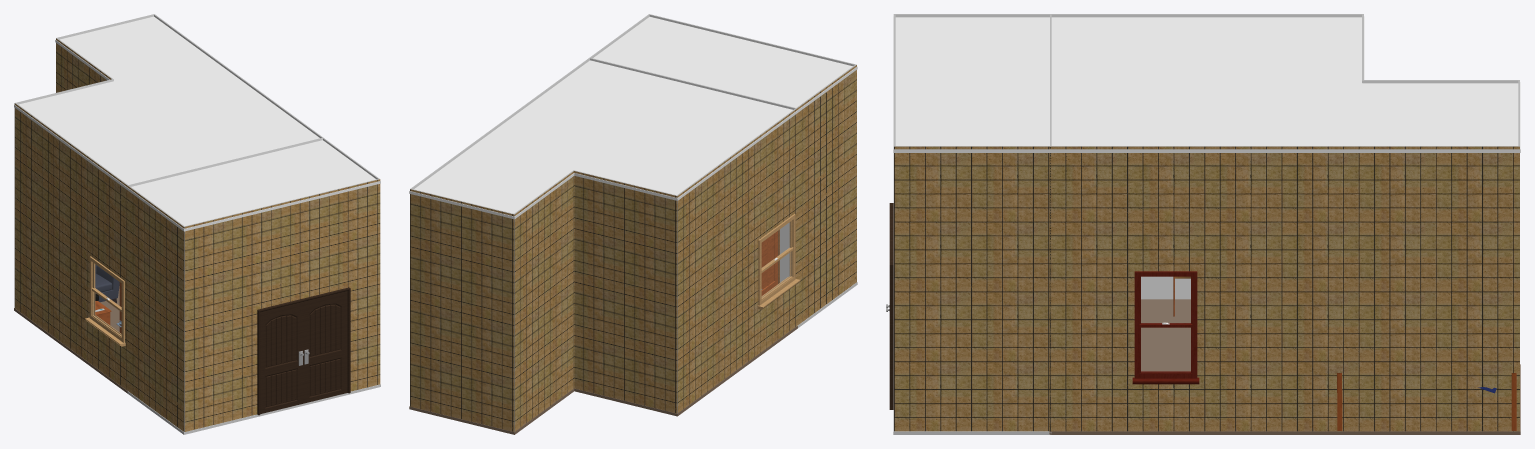
File: ProcTHOR-Train-174.glb
3 views of the same model, side by side, from view 1: azimuth 30°, elevation 25°; view 2: azimuth 150°, elevation 25°; view 3: azimuth 270°, elevation 25° (orthographic). The views are drawn at different scales.
Parts seen in each view (by area): view 1: WallInside#wall|exterior|0.00|8.09|4.05|8.09, Ceiling#room|2|c, WallInside#wall|exterior|4.05|2.02|4.05|6.07, WallInside#wall|exterior|4.05|6.07|4.05|8.09, Ceiling#room|3|c, Doorway_Door_9b, Doorway_Door_9a, WallInside#wall|exterior|2.02|0.00|2.02|2.02, Window_Hung_48x44, Doorway_Double_9, Floor#room|3|f, Floor#room|2|f (+3 smaller); view 2: Ceiling#room|2|c, WallInside#wall|exterior|4.05|2.02|4.05|6.07, WallInside#wall|exterior|0.00|0.00|2.02|0.00, WallInside#wall|exterior|2.02|2.02|4.05|2.02, WallInside#wall|exterior|2.02|0.00|2.02|2.02, WallInside#wall|exterior|4.05|6.07|4.05|8.09, Ceiling#room|3|c, Window_Hung_48x44, Floor#room|2|f, WallInside#wall|2|0.00|6.07|4.05|6.07, Doorway_10_open, WallInside#wall|3|0.00|8.09|4.05|8.09 (+1 smaller); view 3: WallInside#wall|exterior|0.00|0.00|0.00|6.07, Ceiling#room|2|c, WallInside#wall|exterior|0.00|6.07|0.00|8.09, Ceiling#room|3|c, Floor#room|2|f, Window_Hung_32x60, WallInside#wall|2|4.05|2.02|4.05|6.07, Doorway_Double_9, Bed_5, Floor#room|3|f, WallInside#wall|2|2.02|0.00|2.02|2.02, WallInside#wall|3|4.05|6.07|4.05|8.09.
Part boxes in pixels (bbox=[...]): WallInside#wall|exterior|0.00|8.09|4.05|8.09: bbox=[184, 179, 380, 431]; Ceiling#room|2|c: bbox=[14, 16, 321, 189]; WallInside#wall|exterior|4.05|2.02|4.05|6.07: bbox=[14, 103, 127, 390]; WallInside#wall|exterior|4.05|6.07|4.05|8.09: bbox=[127, 185, 184, 431]; Ceiling#room|3|c: bbox=[127, 140, 380, 231]; Doorway_Door_9b: bbox=[303, 291, 347, 403]; Doorway_Door_9a: bbox=[260, 301, 303, 413]; WallInside#wall|exterior|2.02|0.00|2.02|2.02: bbox=[56, 38, 112, 92]; Window_Hung_48x44: bbox=[85, 256, 125, 346]; Doorway_Double_9: bbox=[257, 287, 350, 415]; Floor#room|3|f: bbox=[127, 384, 380, 434]; Floor#room|2|f: bbox=[14, 286, 127, 393]; Ceiling#room|2|c: bbox=[409, 60, 797, 219]; WallInside#wall|exterior|4.05|2.02|4.05|6.07: bbox=[677, 108, 797, 413]; WallInside#wall|exterior|0.00|0.00|2.02|0.00: bbox=[410, 189, 514, 431]; WallInside#wall|exterior|2.02|2.02|4.05|2.02: bbox=[574, 170, 677, 413]; WallInside#wall|exterior|2.02|0.00|2.02|2.02: bbox=[514, 170, 574, 431]; WallInside#wall|exterior|4.05|6.07|4.05|8.09: bbox=[797, 64, 856, 325]; Ceiling#room|3|c: bbox=[593, 17, 857, 112]; Window_Hung_48x44: bbox=[757, 214, 800, 309]; Floor#room|2|f: bbox=[409, 326, 797, 434]; WallInside#wall|2|0.00|6.07|4.05|6.07: bbox=[590, 58, 796, 282]; Doorway_10_open: bbox=[761, 229, 779, 295]; WallInside#wall|3|0.00|8.09|4.05|8.09: bbox=[649, 14, 855, 65]; WallInside#wall|exterior|0.00|0.00|0.00|6.07: bbox=[1050, 146, 1519, 431]; Ceiling#room|2|c: bbox=[1049, 16, 1520, 152]; WallInside#wall|exterior|0.00|6.07|0.00|8.09: bbox=[894, 146, 1051, 431]; Ceiling#room|3|c: bbox=[893, 16, 1052, 152]; Floor#room|2|f: bbox=[1049, 299, 1520, 434]; Window_Hung_32x60: bbox=[1132, 271, 1199, 384]; WallInside#wall|2|4.05|2.02|4.05|6.07: bbox=[1050, 14, 1362, 299]; Doorway_Double_9: bbox=[889, 203, 893, 409]; Bed_5: bbox=[1337, 373, 1516, 430]; Floor#room|3|f: bbox=[893, 410, 1051, 434]; WallInside#wall|2|2.02|0.00|2.02|2.02: bbox=[1362, 80, 1519, 83]; WallInside#wall|3|4.05|6.07|4.05|8.09: bbox=[894, 14, 1049, 17].
Size of what is drawn, in the model's own units: 4.29 by 4.12 by 8.22.
127 materials, 48 textured.
